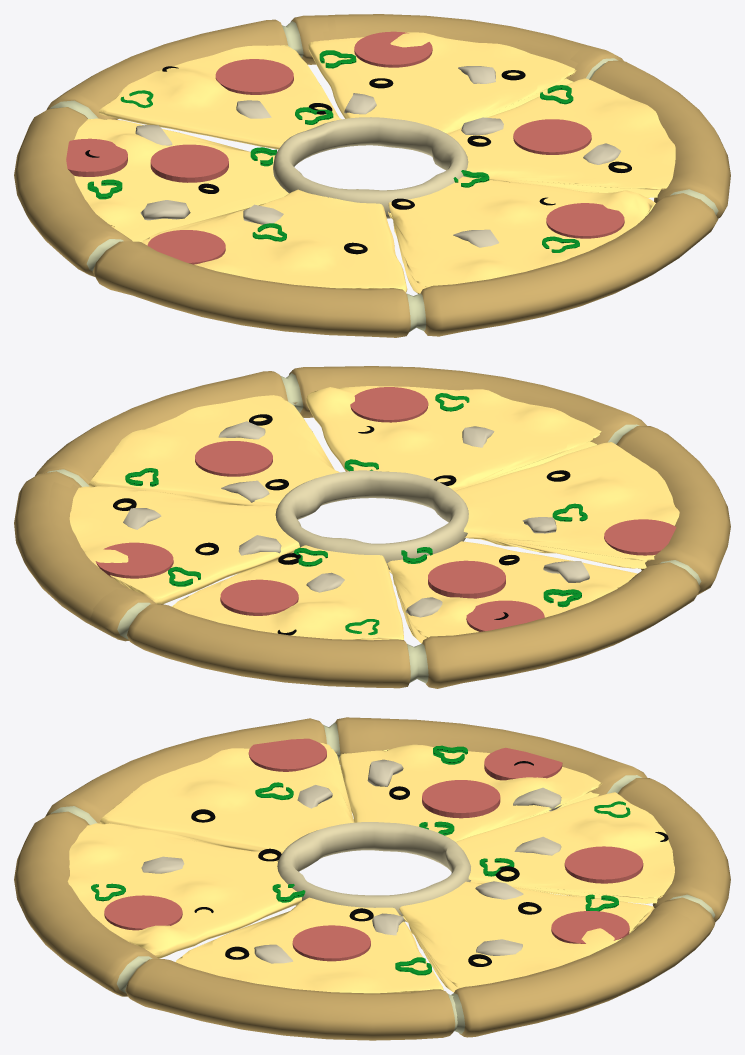
The model's file is Pizza2.fbx.
The picture shows the model from 3 angles, top to bottom: view 1: azimuth 30°, elevation 25°; view 2: azimuth 150°, elevation 25°; view 3: azimuth 270°, elevation 25°; orthographic projection.
Parts seen in each view (by area): view 1: Cube.000; view 2: Cube.000; view 3: Cube.000.
Boxes of the visible parts, x1,y1,x2,y2 form: Cube.000: (14, 14, 730, 337); Cube.000: (14, 366, 730, 688); Cube.000: (14, 717, 730, 1040).
Bounding box in the file's own units: 1819 × 139 × 1814.
